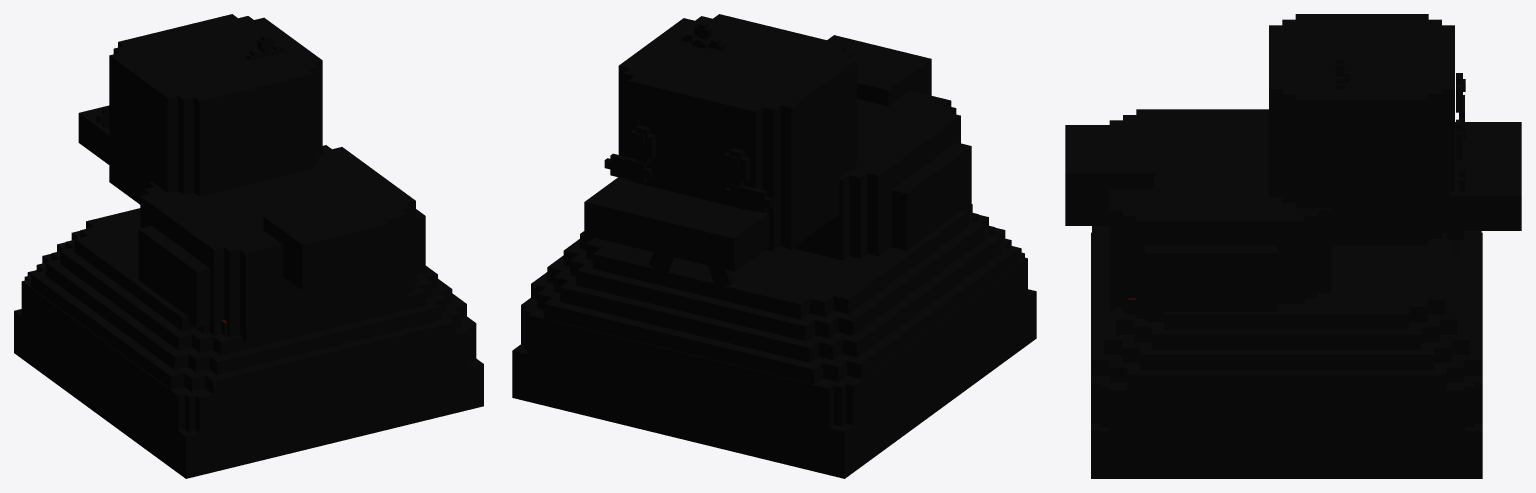
Rendered from hat_rubber_duck.obj.
3 views of the same model, side by side, from view 1: azimuth 30°, elevation 25°; view 2: azimuth 150°, elevation 25°; view 3: azimuth 270°, elevation 25° (orthographic). The views are drawn at different scales.
Bounding box in the file's own units: 0.5531 × 0.5607 × 0.6437.
